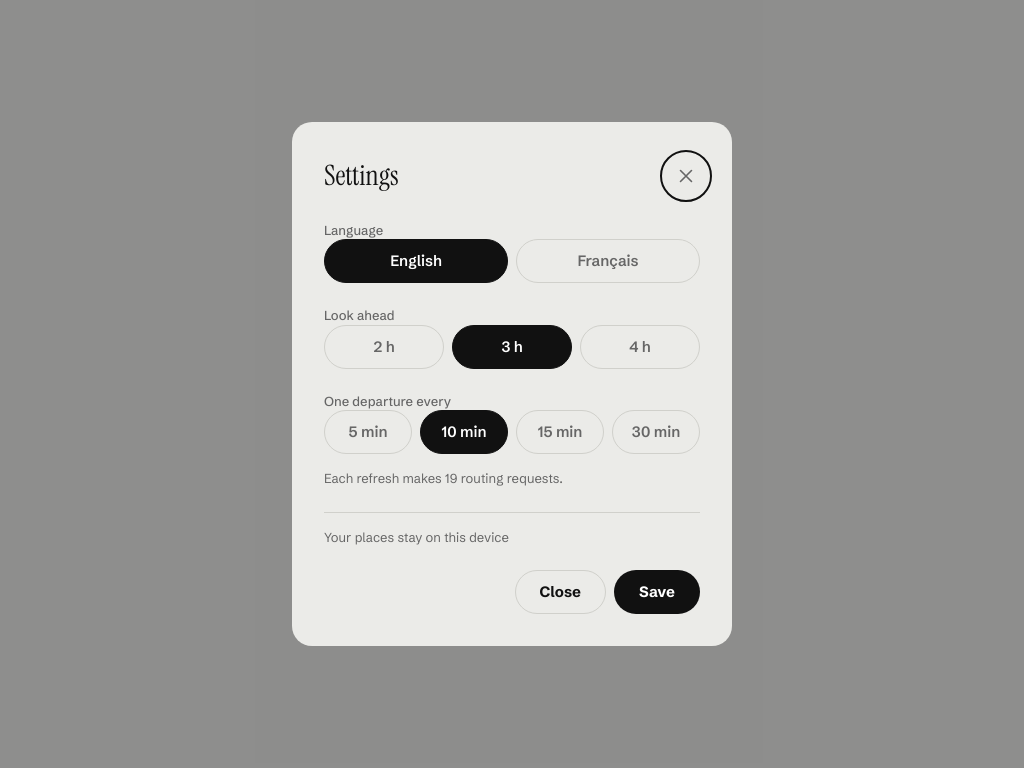
Scenario: SettingsSheet › shortens the span when a step is too fine for it
Later steps or results of the test are not shown.
Step 1. Click the radio button labelled "5 min" → (368, 432), box [324,410,412,454]
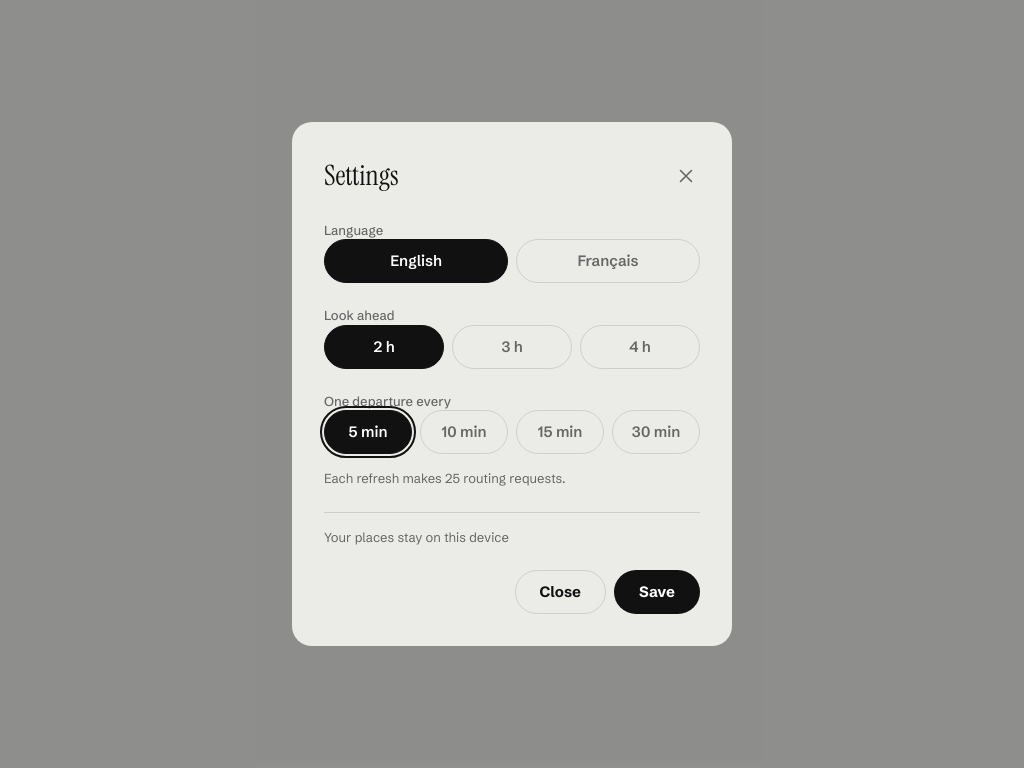
expect the radio button labelled "2 h" is checked: met, box [324,325,444,369]
